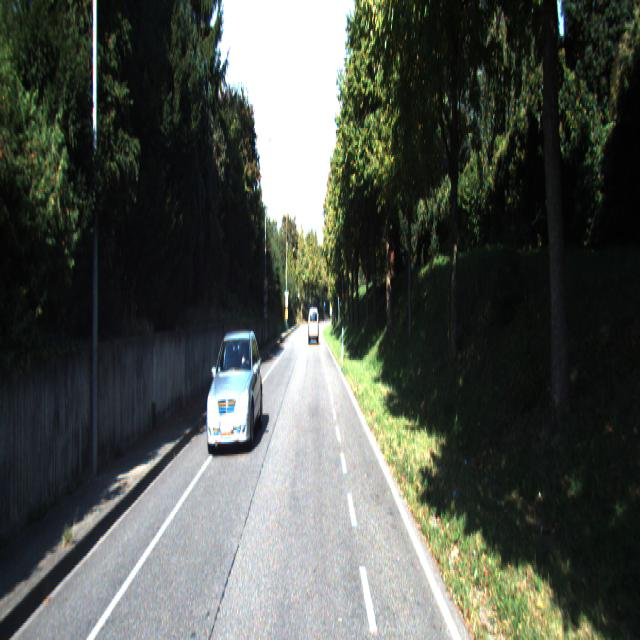Car: (204, 331, 265, 464), (308, 307, 320, 347)
